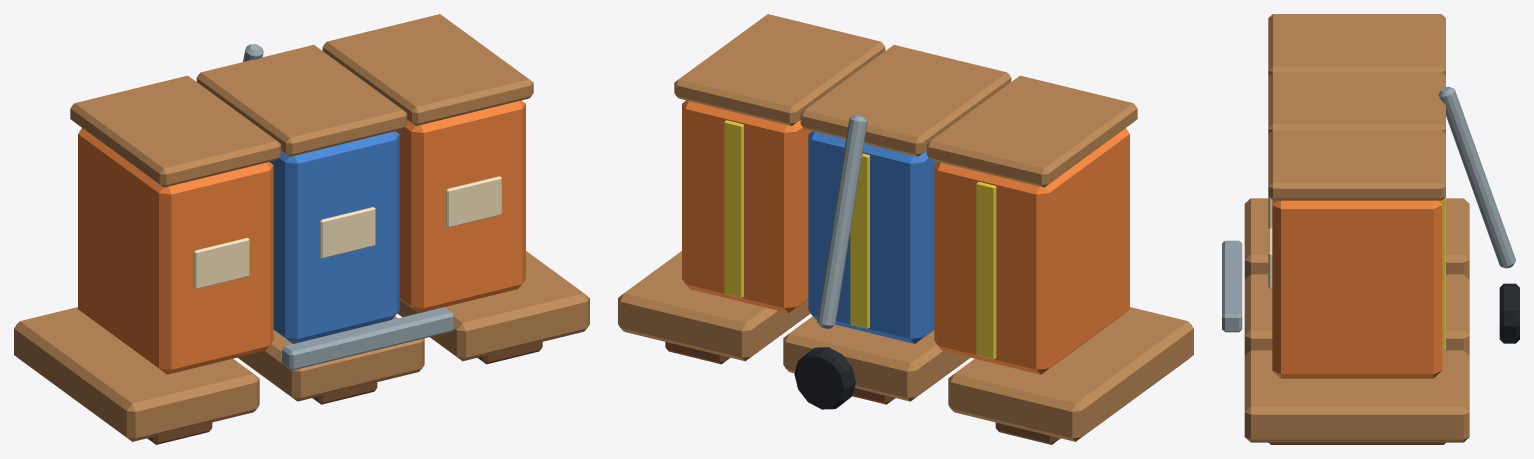
Rendered from mall-restock-pallet.glb.
3 renders of one model, left to right at view 1: azimuth 30°, elevation 25°; view 2: azimuth 150°, elevation 25°; view 3: azimuth 270°, elevation 25°, orthographic. The views are drawn at different scales.
Parts seen in each view (by area): view 1: LP_RESTOCK_CRATE_1, LP_RESTOCK_CRATE_2, LP_RESTOCK_CRATE_3, LP_RESTOCK_PALLET_DECK_-0.72, LP_RESTOCK_CRATE_LID_1, LP_RESTOCK_CRATE_LID_3, LP_RESTOCK_CRATE_LID_2, LP_RESTOCK_PALLET_DECK_+0.72, LP_RESTOCK_PALLET_DECK_+0.00, LP_RESTOCK_SCAN_PLATE, LP_RESTOCK_CRATE_LABEL_1, LP_RESTOCK_CRATE_LABEL_2 (+4 smaller); view 2: LP_RESTOCK_CRATE_1, LP_RESTOCK_CRATE_3, LP_RESTOCK_CRATE_2, LP_RESTOCK_PALLET_DECK_-0.72, LP_RESTOCK_CRATE_LID_1, LP_RESTOCK_CRATE_LID_3, LP_RESTOCK_CRATE_LID_2, LP_RESTOCK_PALLET_DECK_+0.72, LP_RESTOCK_PALLET_DECK_+0.00, LP_RESTOCK_PALLET_JACK_HANDLE, LP_RESTOCK_CRATE_BAND_1, LP_RESTOCK_CRATE_BAND_3 (+4 smaller); view 3: LP_RESTOCK_CRATE_3, LP_RESTOCK_PALLET_DECK_+0.72, LP_RESTOCK_CRATE_LID_3, LP_RESTOCK_CRATE_LID_2, LP_RESTOCK_CRATE_LID_1, LP_RESTOCK_PALLET_DECK_+0.00, LP_RESTOCK_PALLET_DECK_-0.72, LP_RESTOCK_PALLET_JACK_HANDLE, LP_RESTOCK_SCAN_PLATE, LP_RESTOCK_PALLET_JACK_WHEEL, LP_RESTOCK_CRATE_BAND_3, LP_RESTOCK_PALLET_SUPPORT_+0.72 (+1 smaller).
Part boxes in pixels (bbox=[...]): LP_RESTOCK_CRATE_1: bbox=[78, 128, 273, 374]; LP_RESTOCK_CRATE_2: bbox=[270, 131, 399, 343]; LP_RESTOCK_CRATE_3: bbox=[396, 100, 525, 313]; LP_RESTOCK_PALLET_DECK_-0.72: bbox=[14, 307, 259, 441]; LP_RESTOCK_CRATE_LID_1: bbox=[70, 75, 281, 187]; LP_RESTOCK_CRATE_LID_3: bbox=[322, 14, 533, 125]; LP_RESTOCK_CRATE_LID_2: bbox=[196, 45, 407, 156]; LP_RESTOCK_PALLET_DECK_+0.72: bbox=[397, 251, 589, 361]; LP_RESTOCK_PALLET_DECK_+0.00: bbox=[238, 316, 424, 401]; LP_RESTOCK_SCAN_PLATE: bbox=[282, 307, 454, 370]; LP_RESTOCK_CRATE_LABEL_1: bbox=[193, 237, 249, 289]; LP_RESTOCK_CRATE_LABEL_2: bbox=[320, 207, 375, 258]; LP_RESTOCK_CRATE_1: bbox=[934, 128, 1129, 374]; LP_RESTOCK_CRATE_3: bbox=[682, 100, 811, 313]; LP_RESTOCK_CRATE_2: bbox=[808, 131, 937, 343]; LP_RESTOCK_PALLET_DECK_-0.72: bbox=[948, 307, 1193, 441]; LP_RESTOCK_CRATE_LID_1: bbox=[926, 75, 1137, 187]; LP_RESTOCK_CRATE_LID_3: bbox=[674, 14, 885, 125]; LP_RESTOCK_CRATE_LID_2: bbox=[800, 45, 1011, 156]; LP_RESTOCK_PALLET_DECK_+0.72: bbox=[618, 251, 810, 361]; LP_RESTOCK_PALLET_DECK_+0.00: bbox=[783, 316, 969, 401]; LP_RESTOCK_PALLET_JACK_HANDLE: bbox=[817, 114, 867, 328]; LP_RESTOCK_CRATE_BAND_1: bbox=[976, 182, 996, 359]; LP_RESTOCK_CRATE_BAND_3: bbox=[724, 120, 743, 297]; LP_RESTOCK_CRATE_3: bbox=[1272, 200, 1442, 378]; LP_RESTOCK_PALLET_DECK_+0.72: bbox=[1244, 350, 1469, 442]; LP_RESTOCK_CRATE_LID_3: bbox=[1268, 130, 1445, 200]; LP_RESTOCK_CRATE_LID_2: bbox=[1268, 72, 1445, 133]; LP_RESTOCK_CRATE_LID_1: bbox=[1268, 14, 1445, 75]; LP_RESTOCK_PALLET_DECK_+0.00: bbox=[1244, 274, 1469, 355]; LP_RESTOCK_PALLET_DECK_-0.72: bbox=[1244, 198, 1469, 279]; LP_RESTOCK_PALLET_JACK_HANDLE: bbox=[1438, 86, 1515, 268]; LP_RESTOCK_SCAN_PLATE: bbox=[1222, 240, 1242, 332]; LP_RESTOCK_PALLET_JACK_WHEEL: bbox=[1499, 283, 1519, 343]; LP_RESTOCK_CRATE_BAND_3: bbox=[1442, 197, 1445, 350]; LP_RESTOCK_PALLET_SUPPORT_+0.72: bbox=[1269, 442, 1445, 444].
Bounding box in the file's own units: 2.02 × 1.19 × 1.19.
